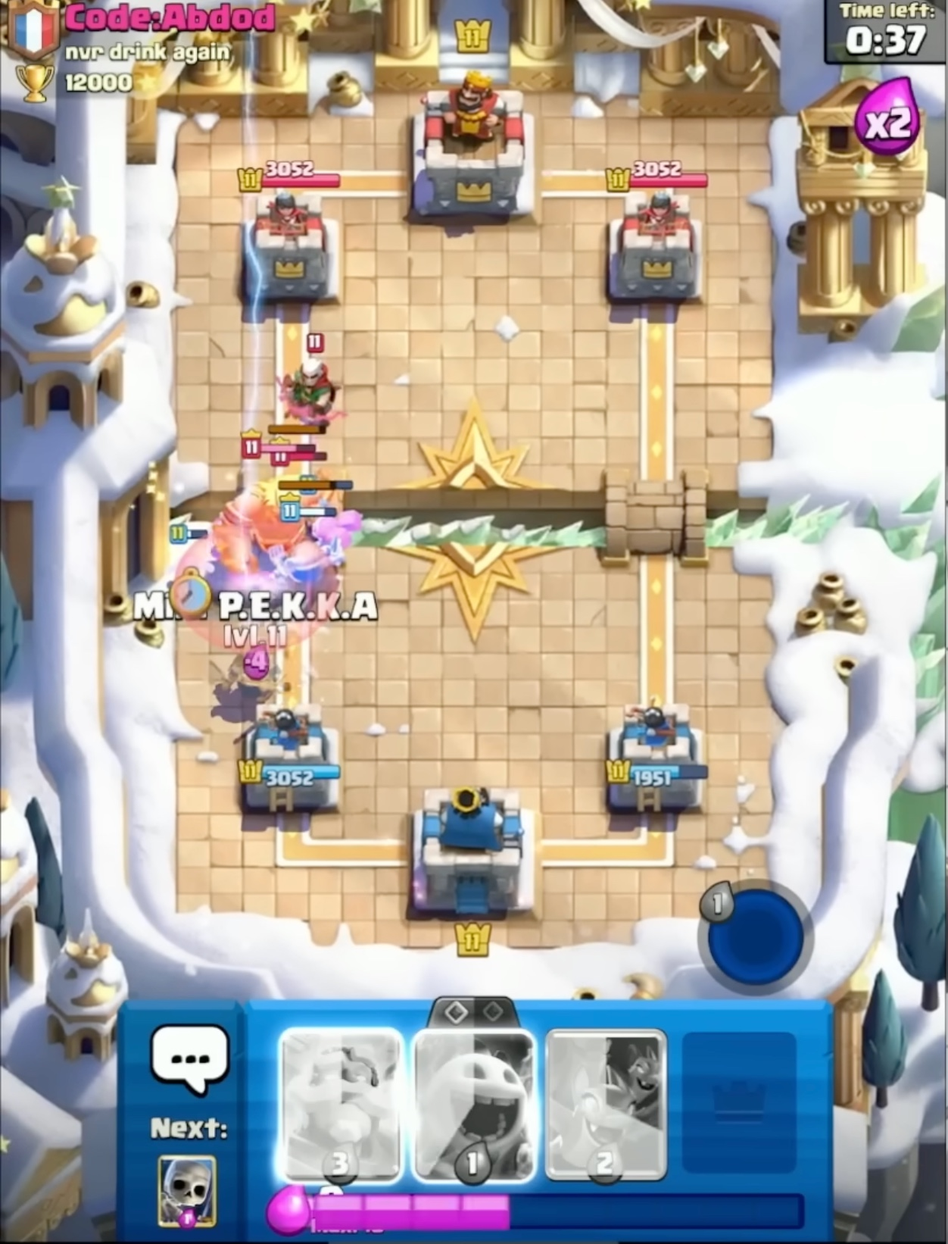hero-giant: (220, 426, 341, 578)
magic-archer: (264, 331, 356, 435)
